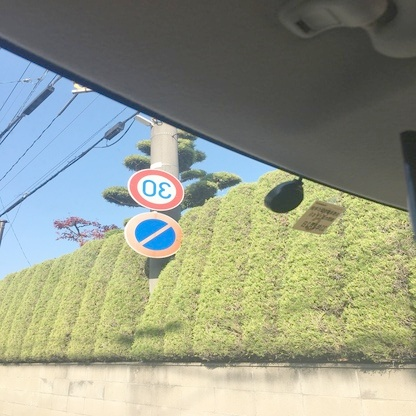Prohibition_sign: (124, 210, 186, 264)
Speed_sign: (125, 167, 186, 212)
